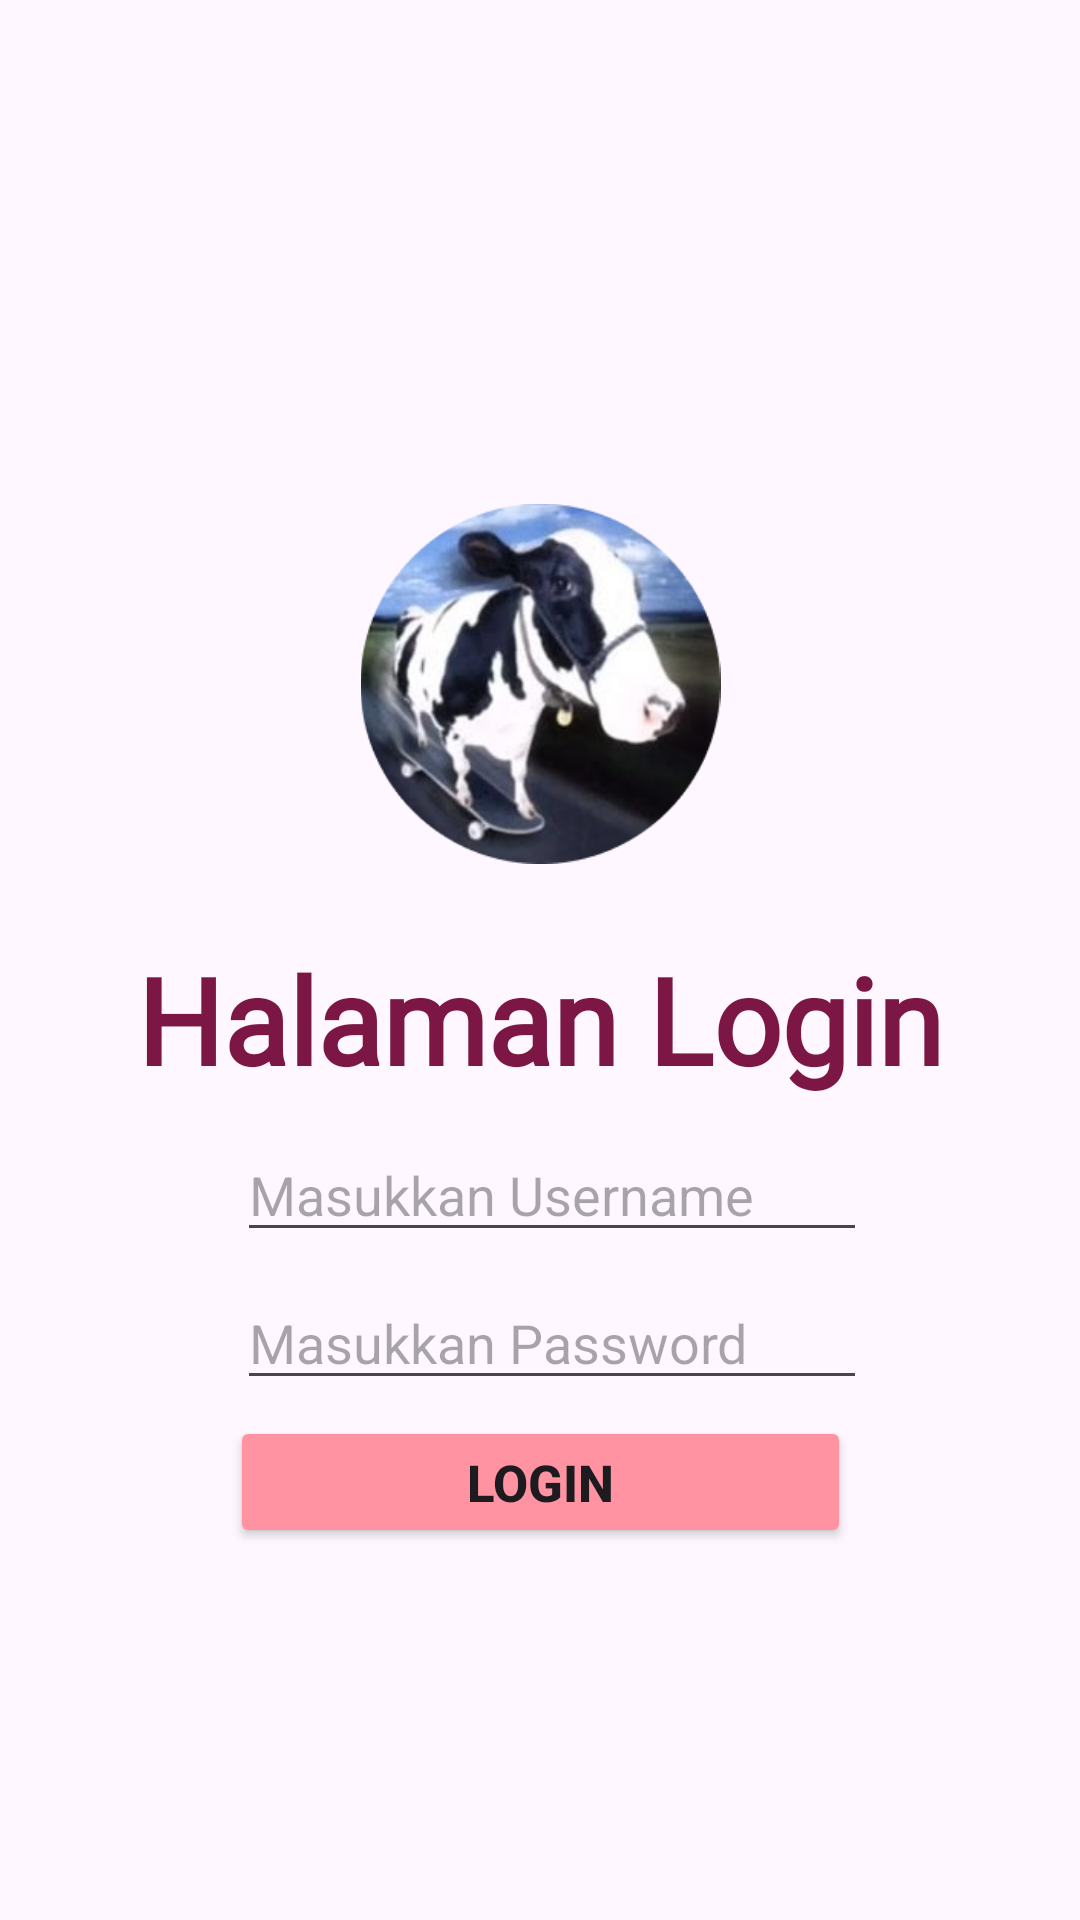

Icons on this 1080px x 1920px Android screen, each with the point to tap as [x,y]:
profilepict: [541,684]
